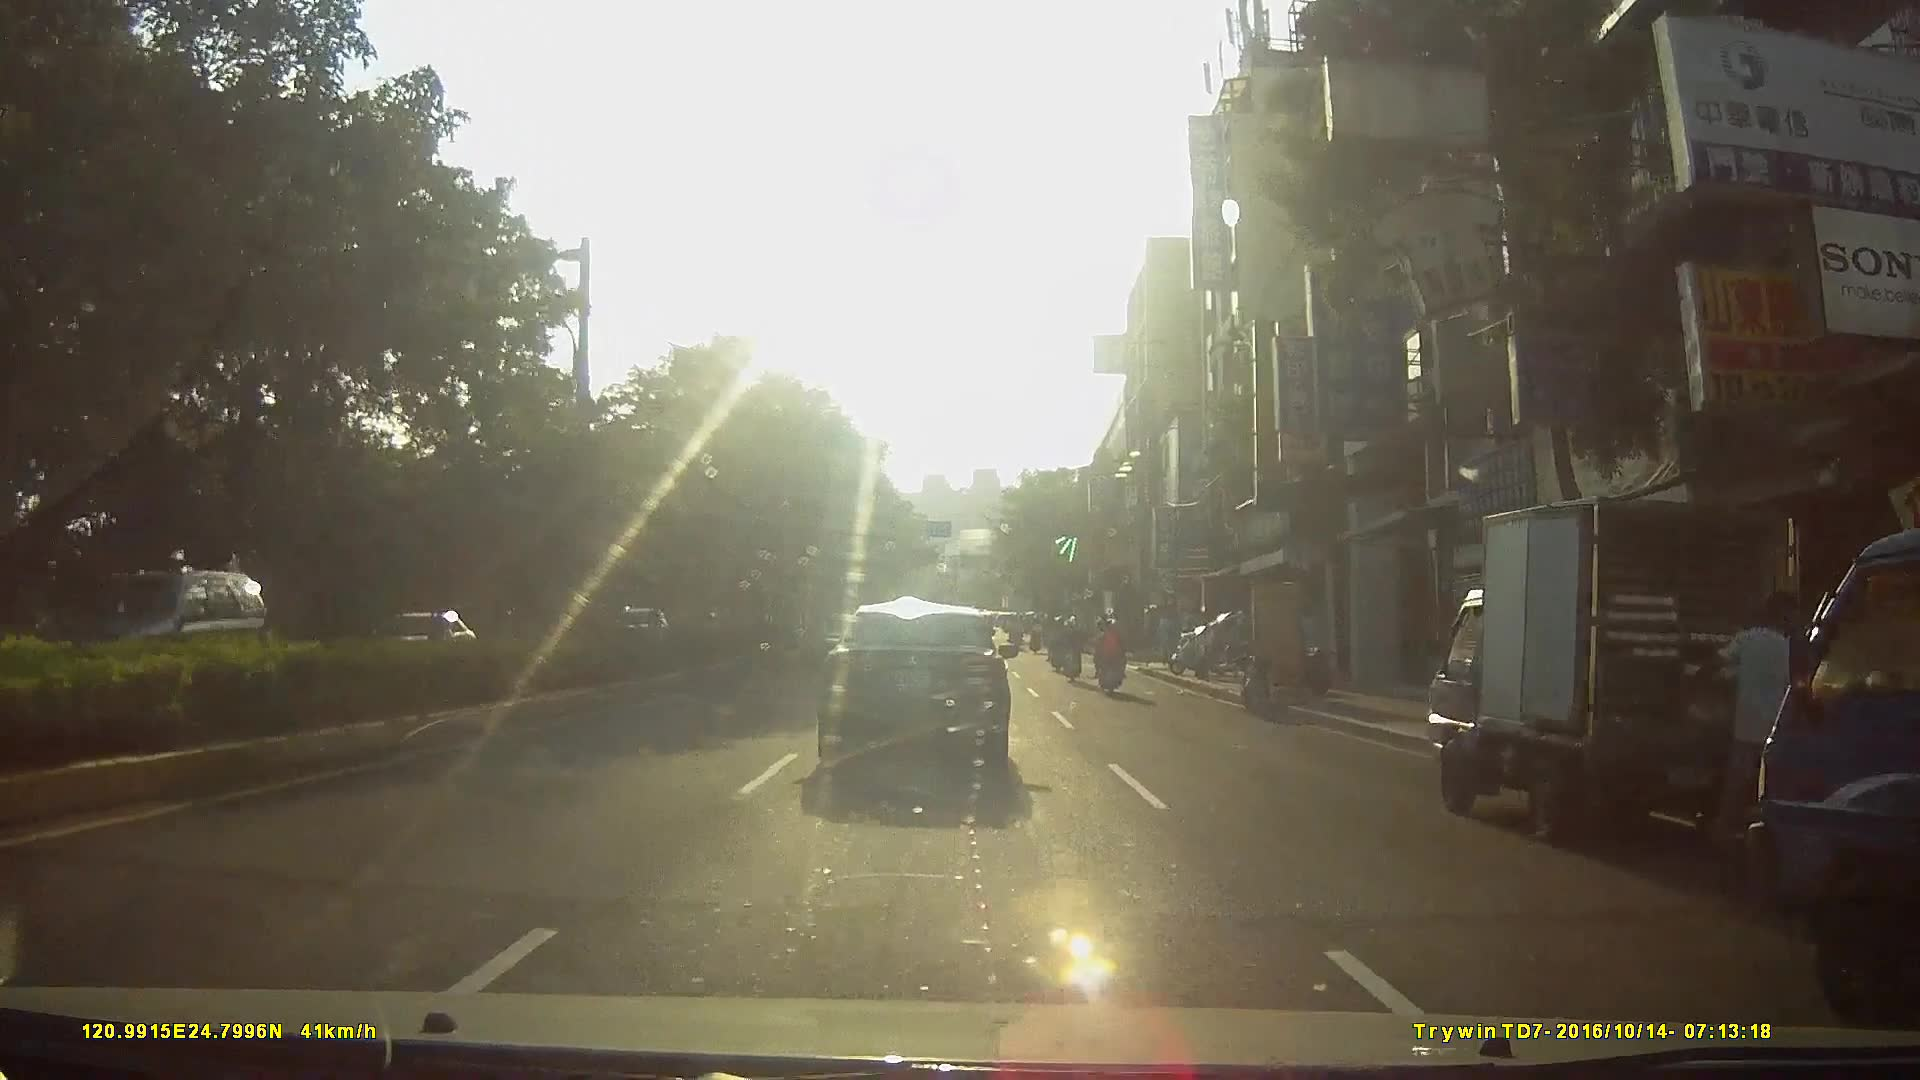rider: (1092, 617, 1129, 697), (1058, 611, 1085, 685), (1048, 607, 1068, 665)
vehicle: (1423, 483, 1800, 839), (810, 593, 1022, 784), (55, 569, 267, 695)
